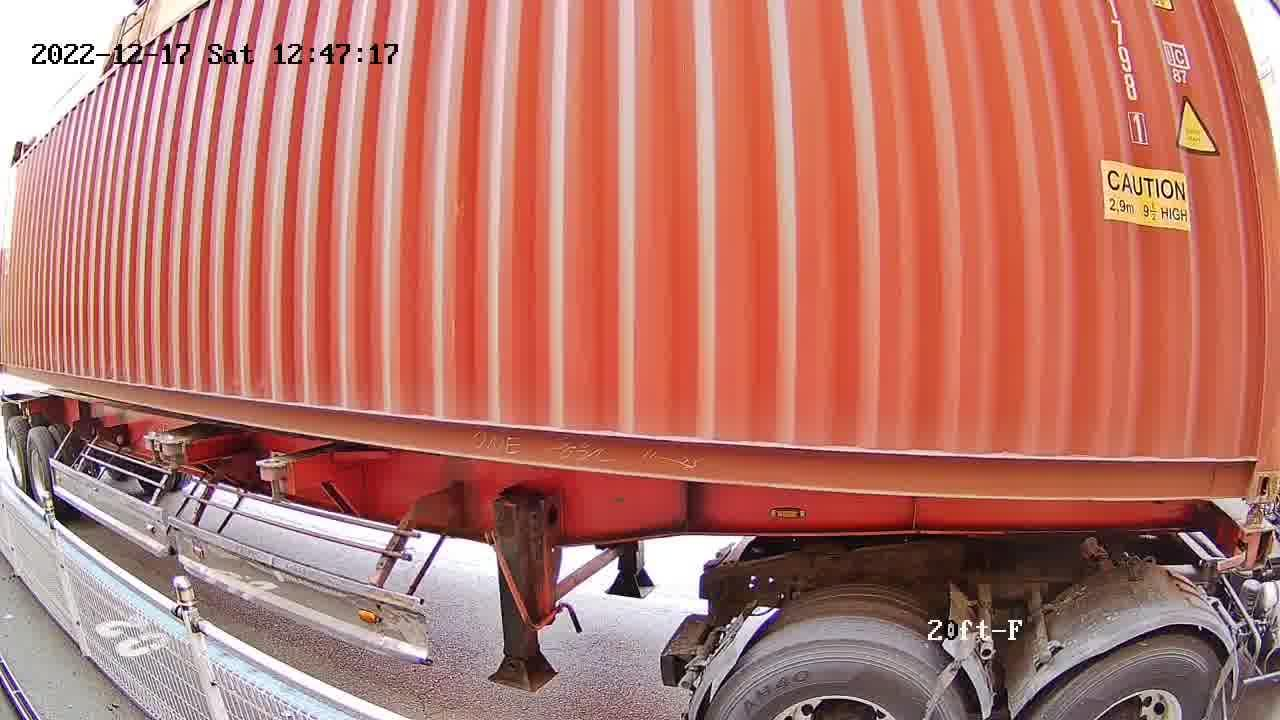Cone: (1219, 505, 1275, 574)
Hole_R: (1197, 422, 1279, 501)
Tire: (708, 640, 965, 716), (1051, 636, 1227, 714)
